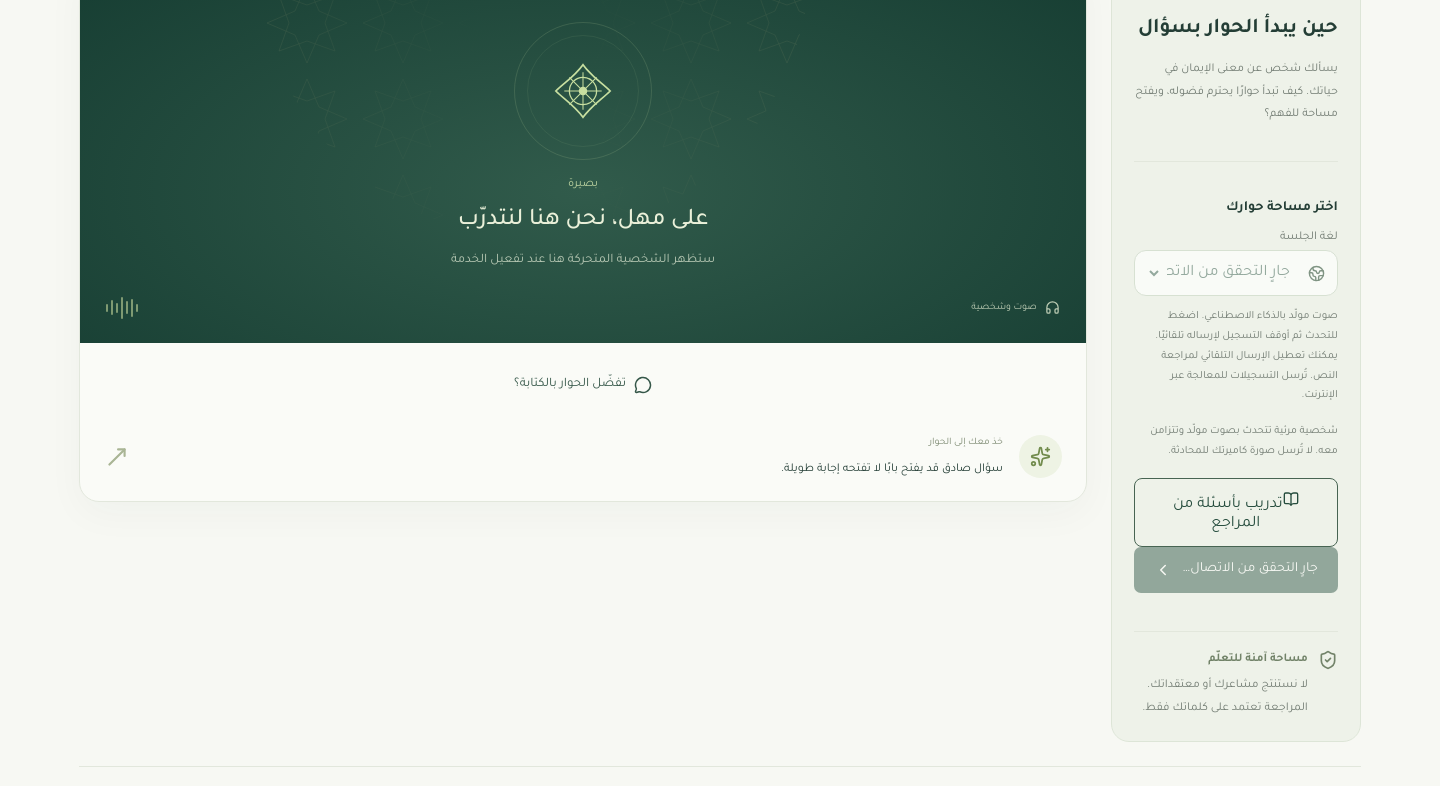
Test: Real engine wiring with mocked provider responses › shows a model error without substituting scripted content
(page scrolled)
Click the button with aria-label "نص".
click(583, 385)  # box [104,363,1062,407]
(page scrolled)
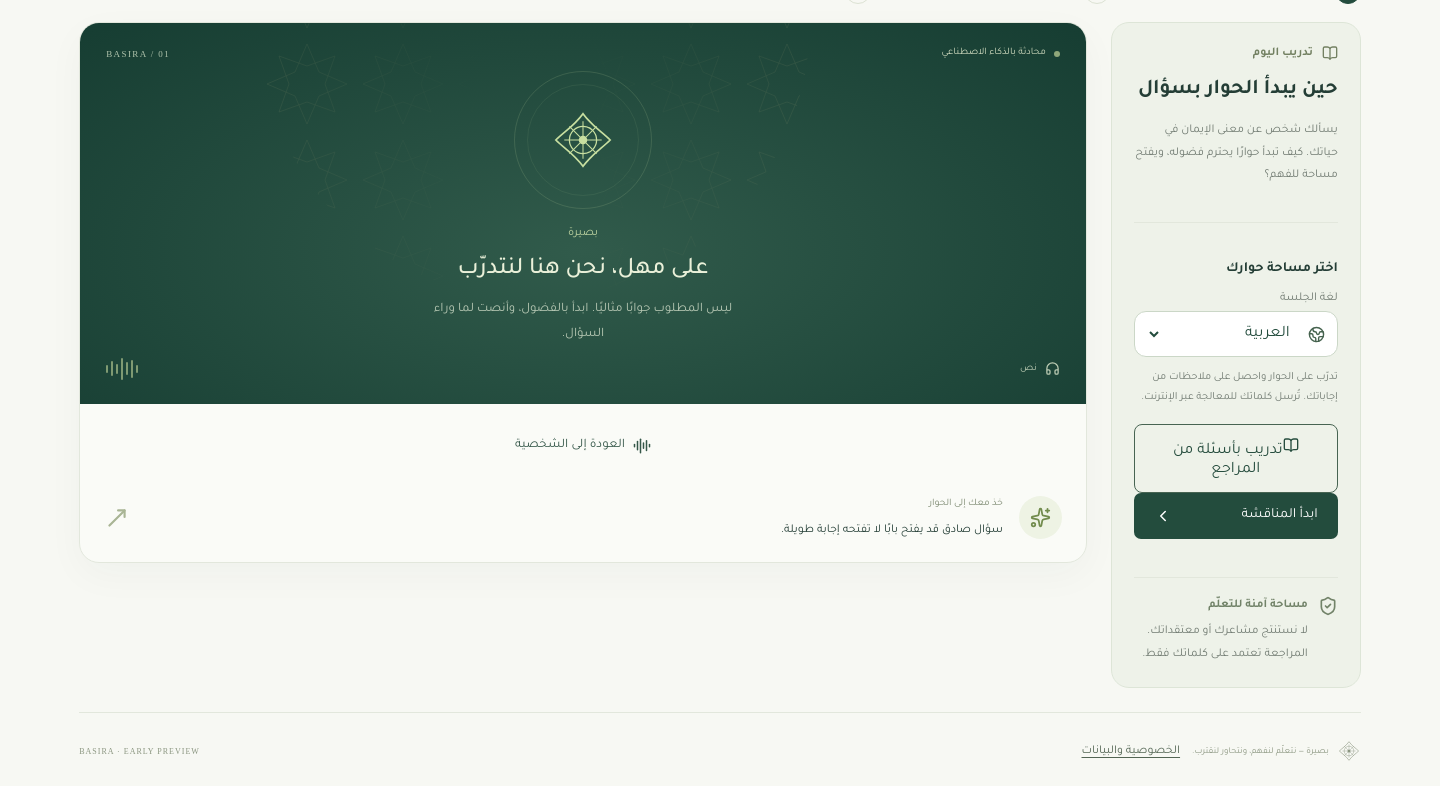
Expected: the button "ابدأ المناقشة" is enabled
Click the button "ابدأ المناقشة".
click(1236, 516)  # box [1134,493,1338,539]
(page scrolled)
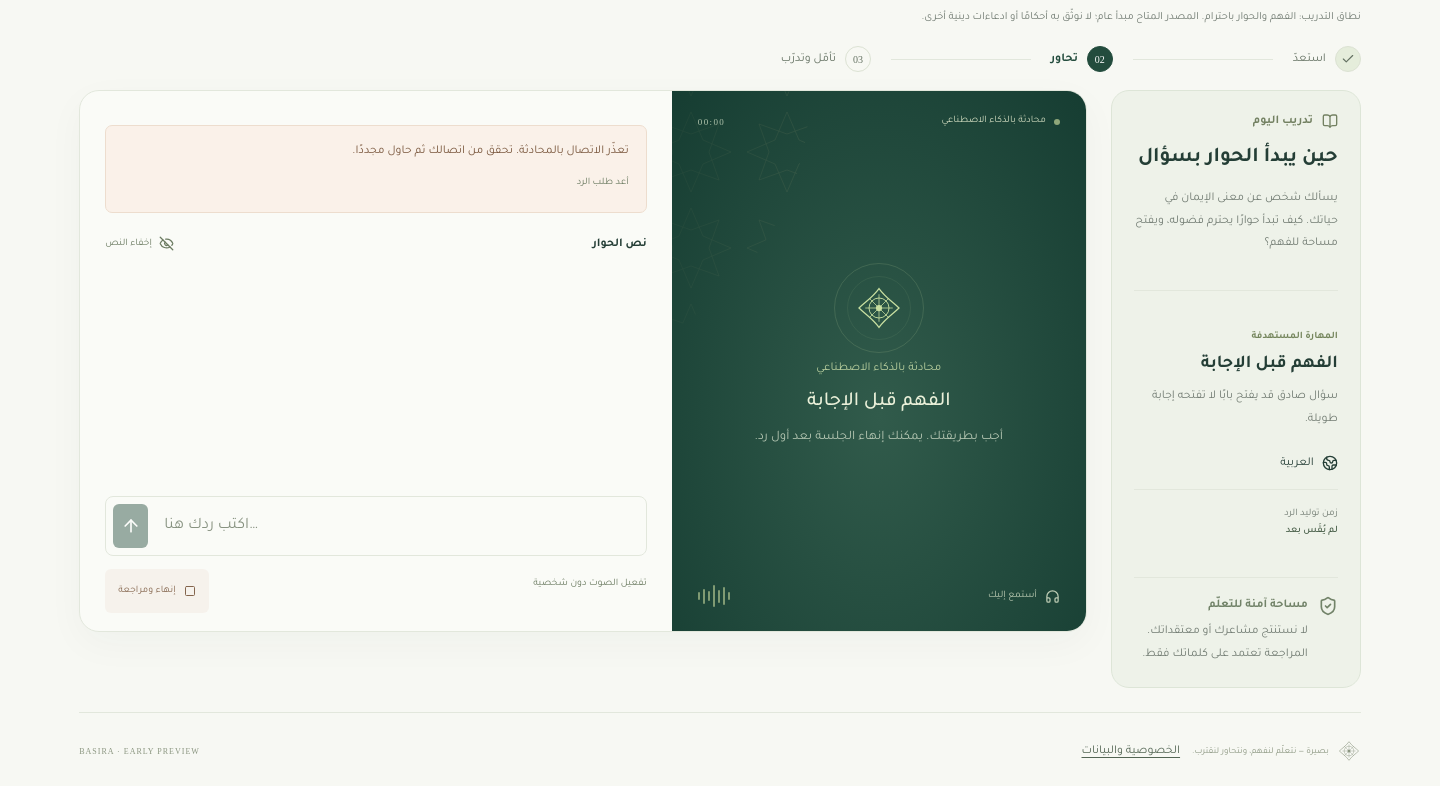
Expected: the message "تعذّر الاتصال بالمحادثة. تحقق من اتصالك ثم حاول مجددًا. أعد طلب الرد" is shown, [105,125,647,213]
Expected: the button "أعد طلب الرد" is shown, [577,168,629,198]
